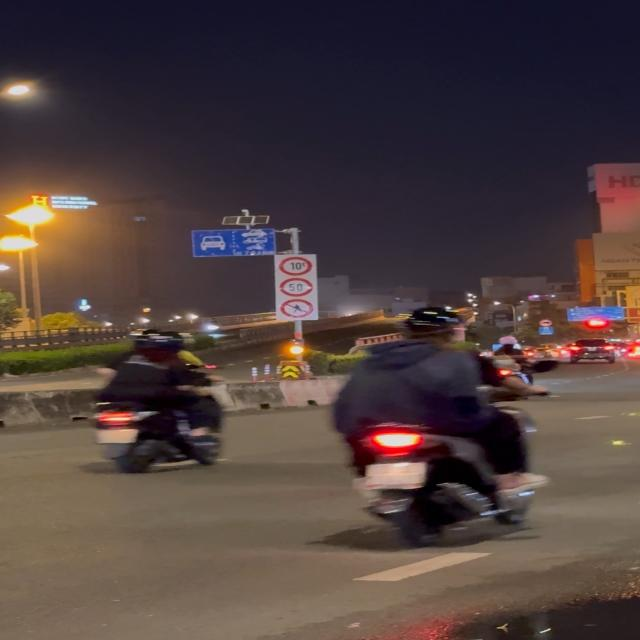Bien bao cam nguoi di bo: (279, 298, 316, 319)
Bien bao toc do toi da cho phep: (278, 277, 314, 297)
